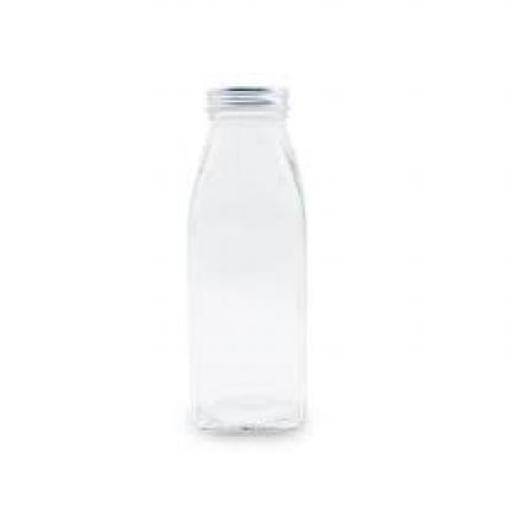glass: (191, 87, 312, 430)
